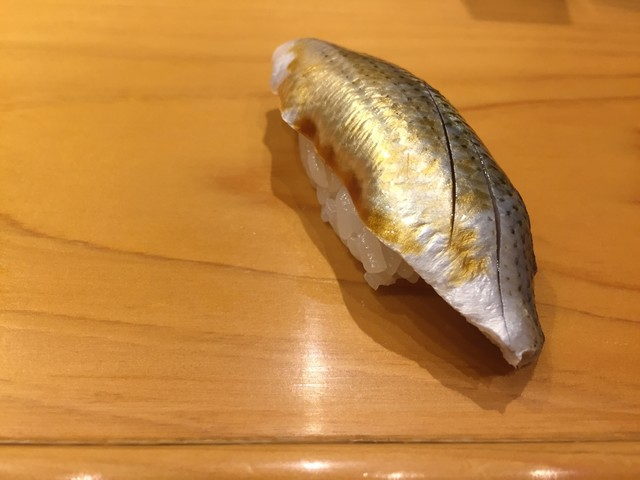spotted-shad: (267, 33, 544, 376)
